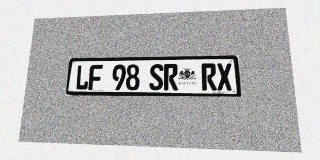8: (126, 64, 140, 90)
9: (112, 64, 126, 90)
F: (88, 65, 103, 90)
L: (75, 65, 90, 90)
R: (201, 63, 217, 90), (164, 64, 178, 90)
S: (149, 64, 163, 90)
X: (216, 63, 233, 91)
